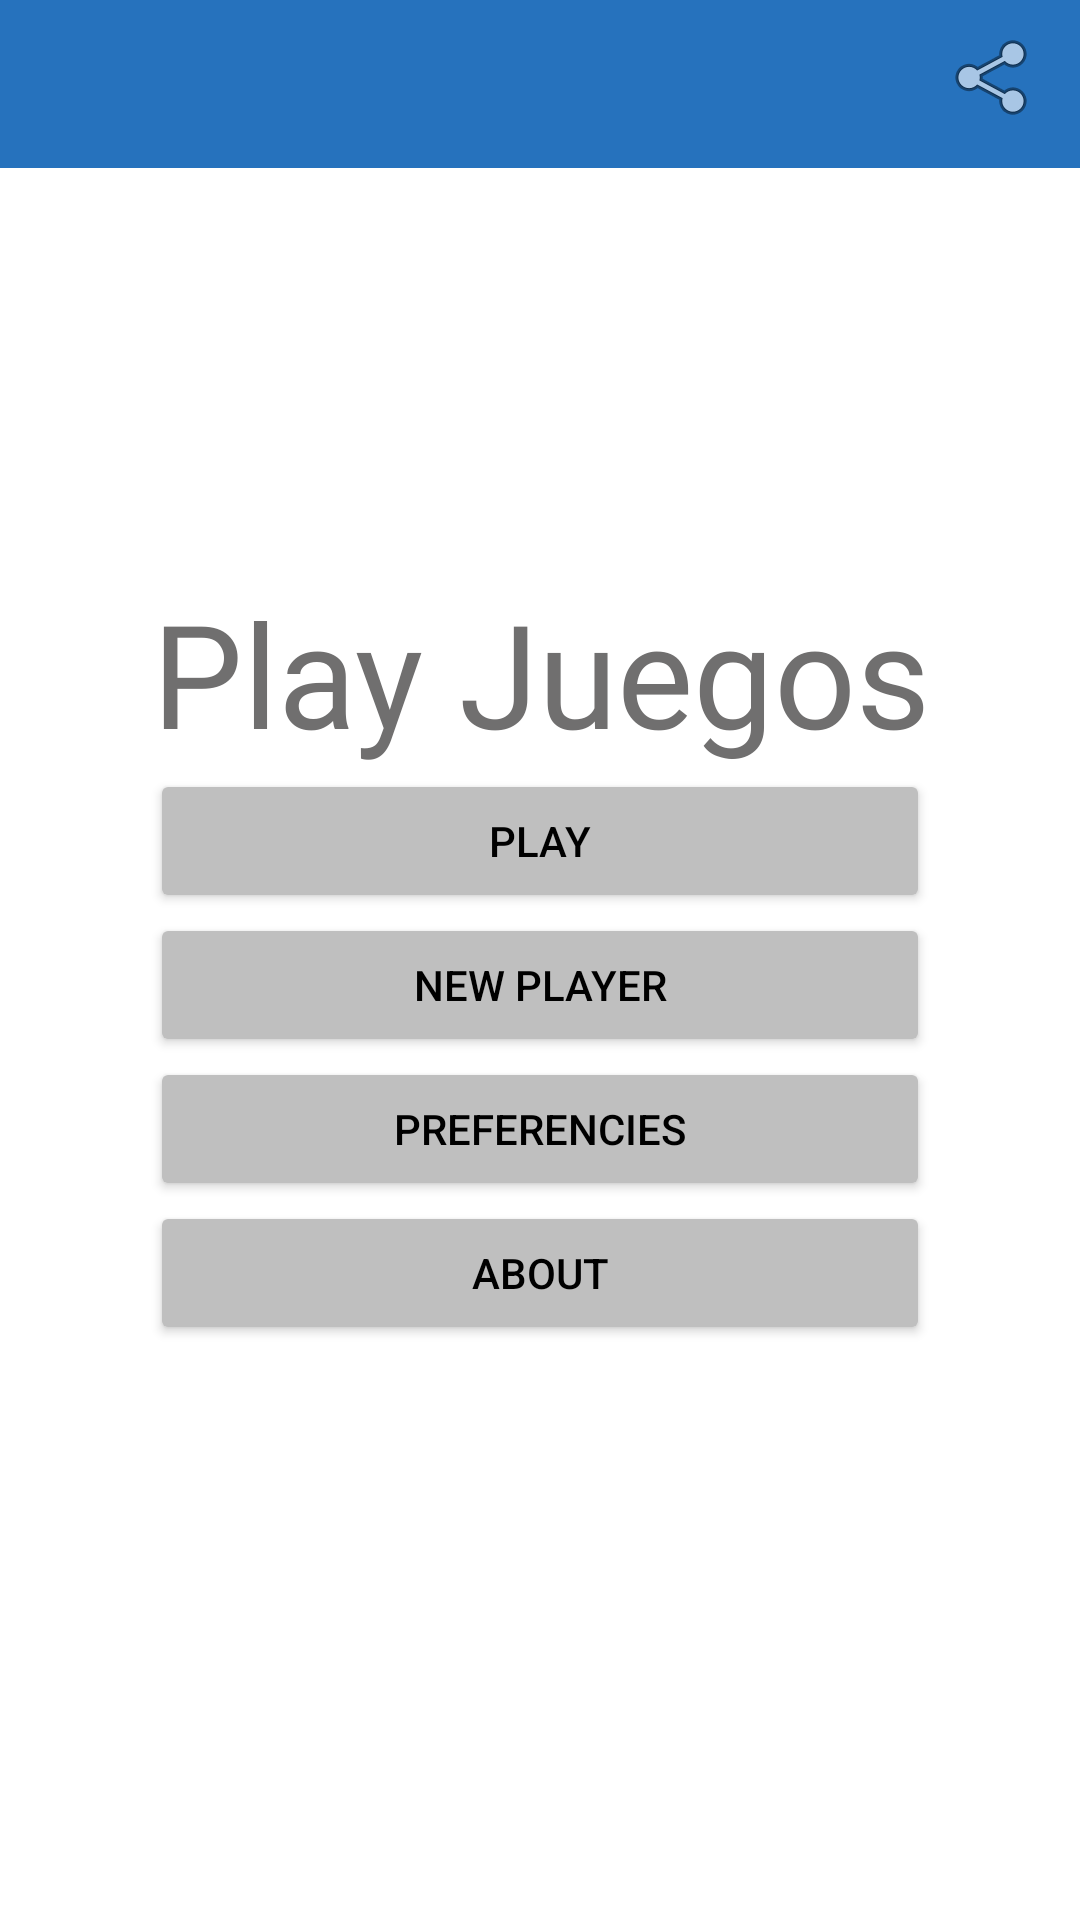

Point at icon controls on the screen. Image size 1080x1920, points as [x,y].
share: [991,77]
